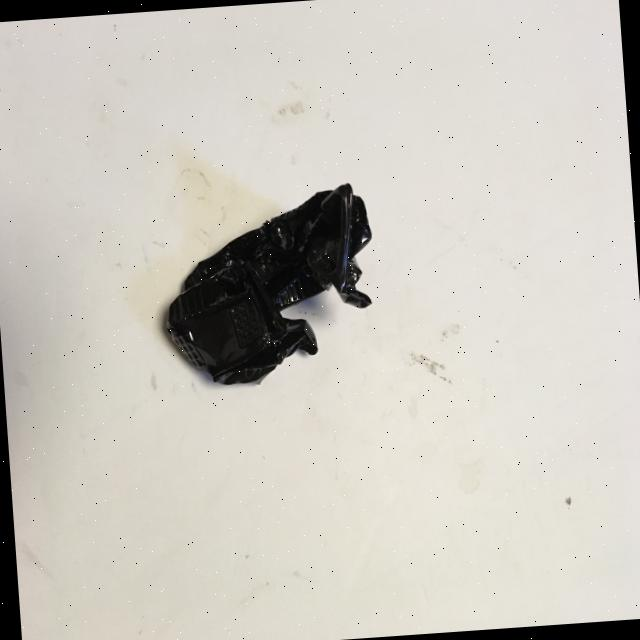plastic: (156, 180, 381, 390)
